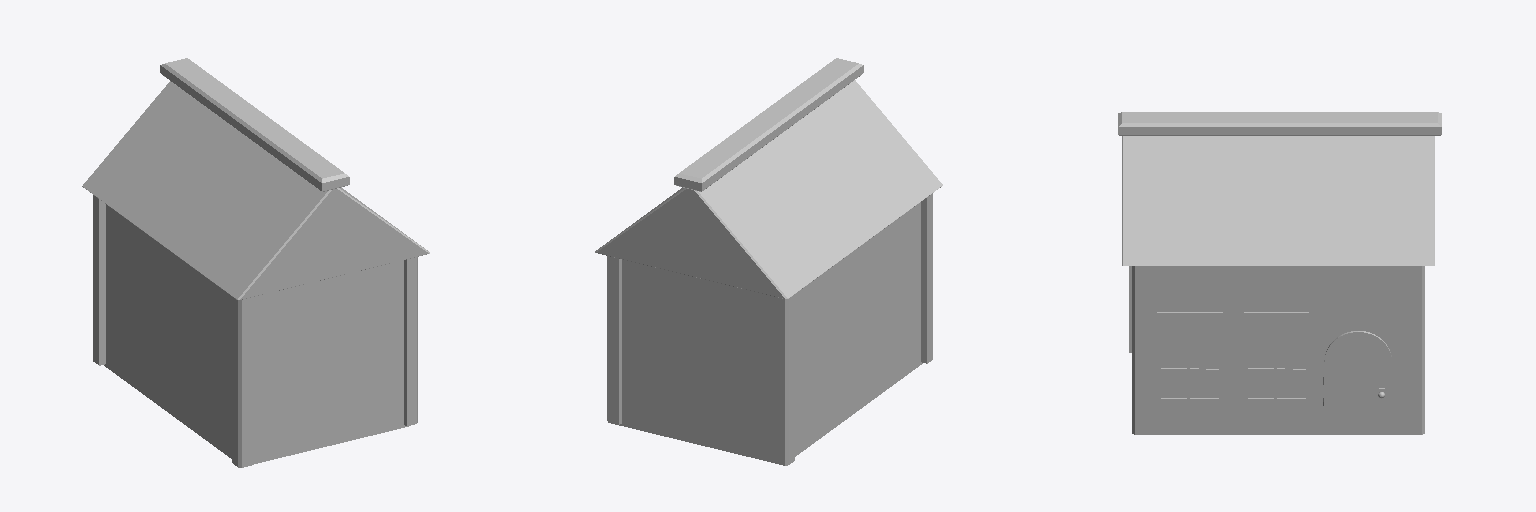
The model's file is k2 building.obj.
3 views of the same model, side by side, from view 1: azimuth 30°, elevation 25°; view 2: azimuth 150°, elevation 25°; view 3: azimuth 270°, elevation 25° (orthographic).
Parts seen in each view (by area): view 1: k2_roof_beam_door1, k2_body; view 2: k2_roof_beam_door1, k2_body; view 3: k2_roof_beam_door1, k2_body, k2_window_knob1.
Part boxes in pixels (x1,y1,x2,y2): k2_roof_beam_door1: (82, 58, 429, 467); k2_body: (104, 204, 408, 464); k2_roof_beam_door1: (595, 58, 942, 465); k2_body: (619, 202, 922, 462); k2_roof_beam_door1: (1118, 112, 1441, 434); k2_body: (1147, 266, 1409, 434); k2_window_knob1: (1157, 312, 1384, 405).
Bounding box in the file's own units: 150 × 204 × 216.